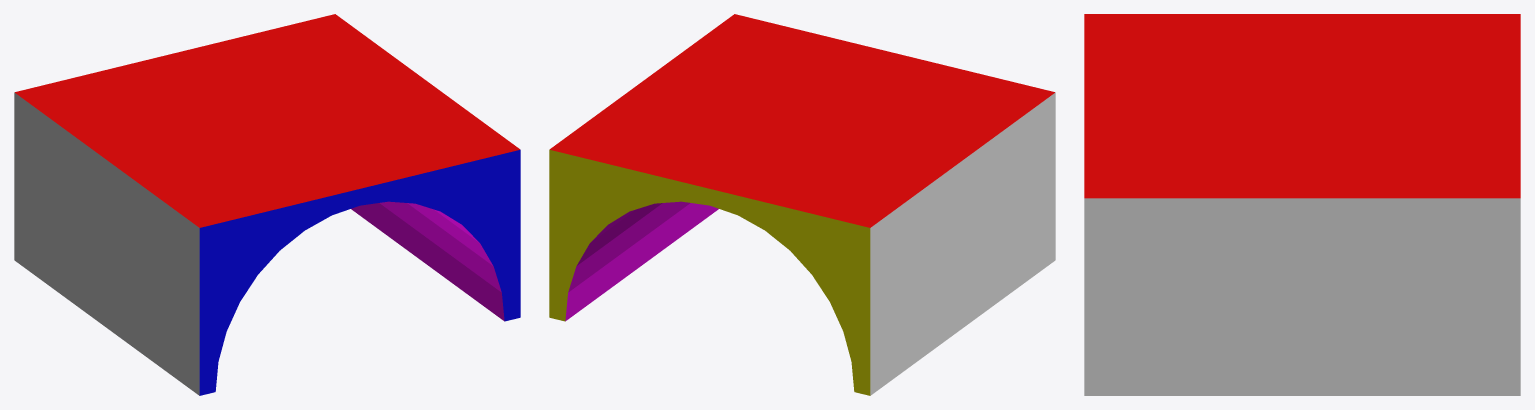
Rendered from toptunnel.glb.
The picture shows the model from 3 angles, left to right: view 1: azimuth 30°, elevation 25°; view 2: azimuth 150°, elevation 25°; view 3: azimuth 270°, elevation 25°; orthographic projection. The views are drawn at different scales.
Visible parts, largest first — view 1: Cube; view 2: Cube; view 3: Cube.
Part boxes in pixels (x1,y1,x2,y2): Cube: (14,14,520,395); Cube: (549,14,1055,395); Cube: (1084,14,1520,395).
Bounding box in the file's own units: 2 × 1 × 2.
